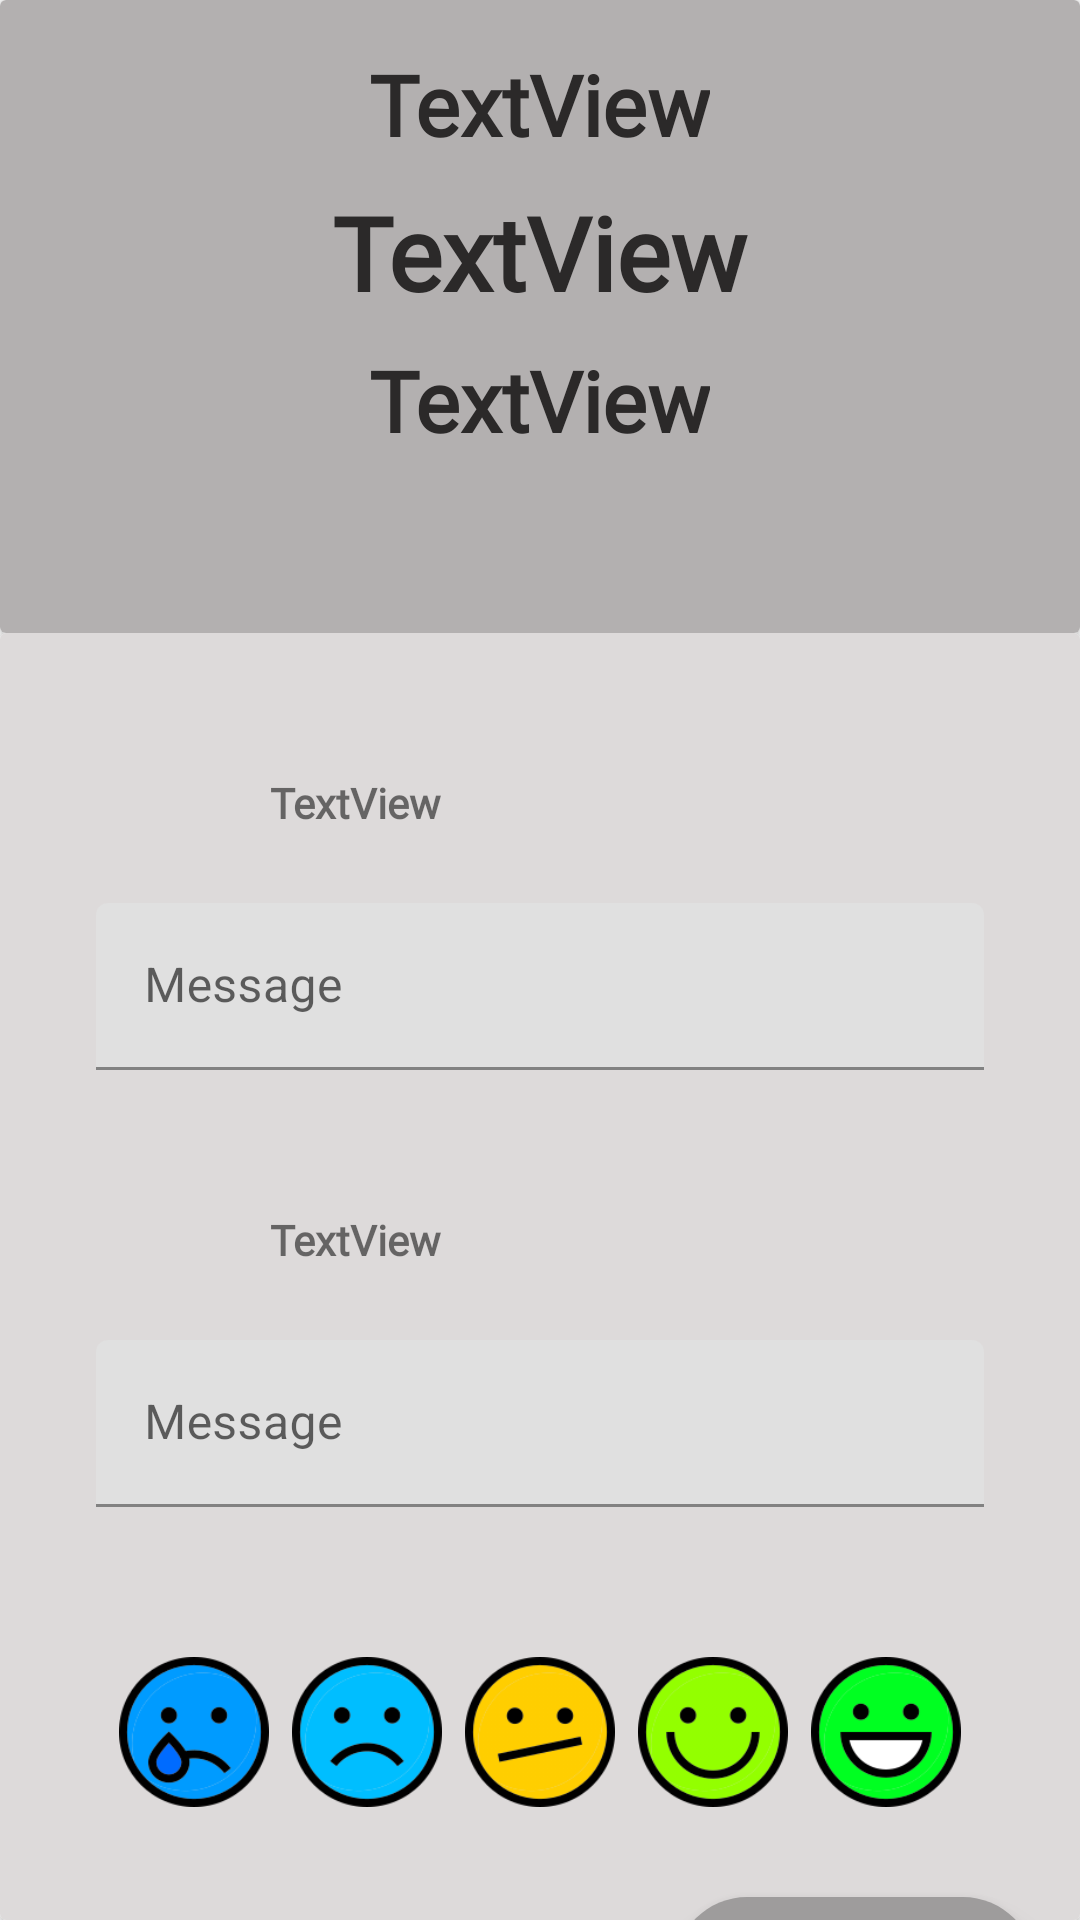

Named icons in this screenshot (1080x1920) and their centers, (x,y):
contento: (713,1732)
indiferente: (540,1732)
llorando: (194,1732)
muy contento: (886,1732)
triste: (367,1732)
